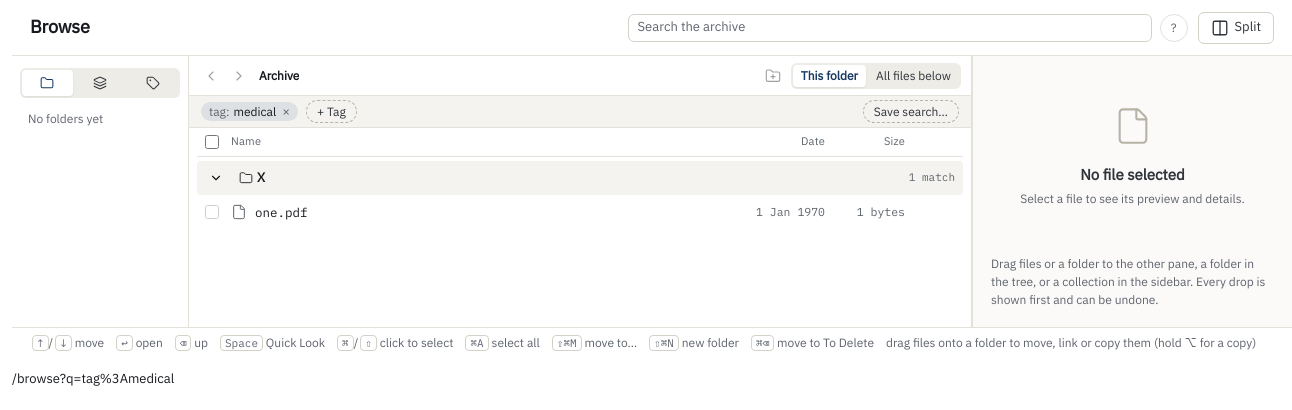
Test: Browse with tags › tags alone search with no words, and a chip's x removes the filter
Expected: the text "one.pdf" is shown, x1=255 y1=203 x2=308 y2=221
What coordinates should you click on to do the following:
click the button named "Remove filter tag:medical"
I would click on:
 (286, 112)
Its box is x1=278 y1=105 x2=294 y2=118.
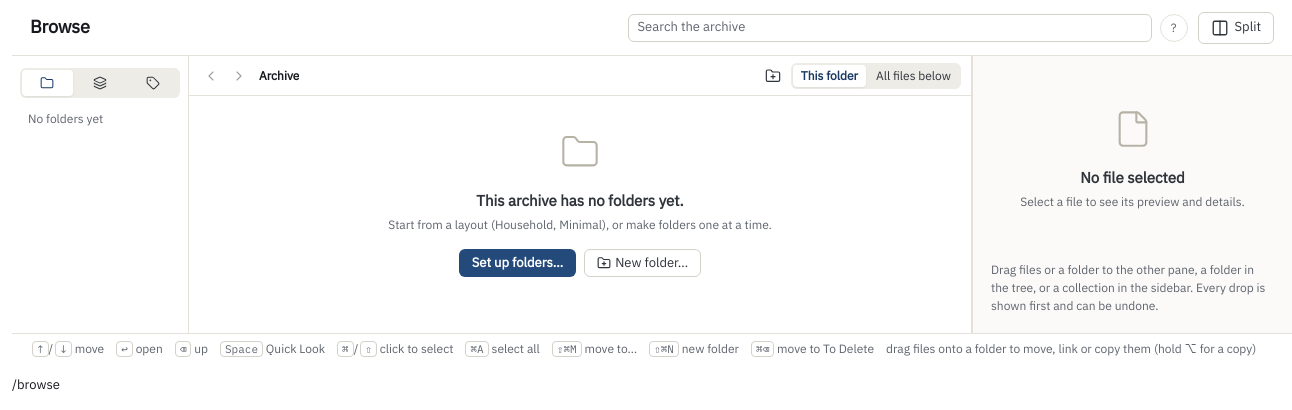
Now the text with test id "where" reads "/browse", box x1=12 y1=376 x2=60 y2=393
Now the button "one.pdf" is gone
